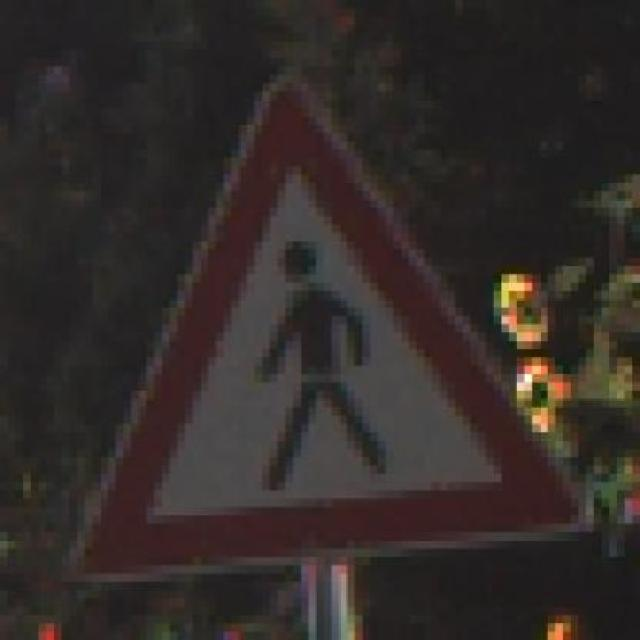Pedestrian Crossing: (55, 71, 588, 578)
